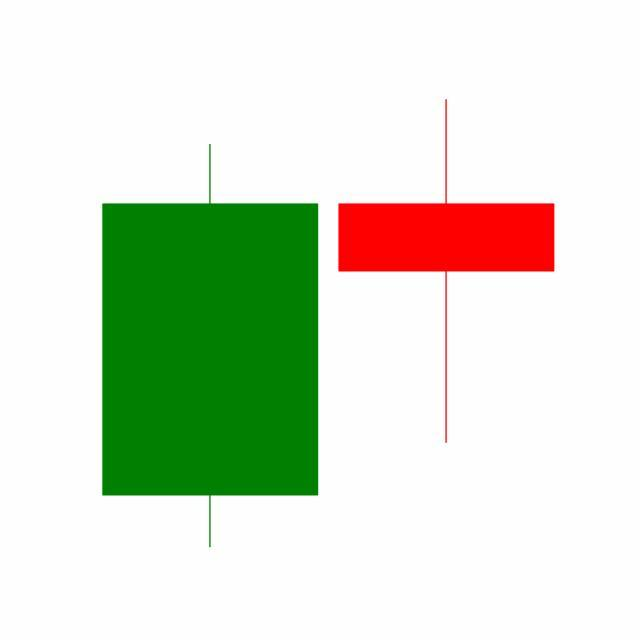Dragonfly Doji: (328, 96, 566, 447)
